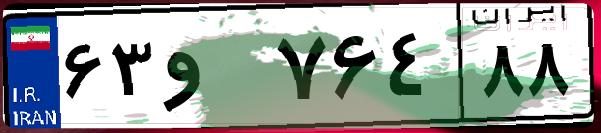3: (110, 28, 158, 98)
4: (385, 28, 445, 110)
6: (330, 28, 385, 110), (57, 26, 110, 100)
7: (270, 28, 330, 110)
8: (475, 38, 525, 113), (525, 38, 570, 115)
و: (158, 20, 270, 120)
